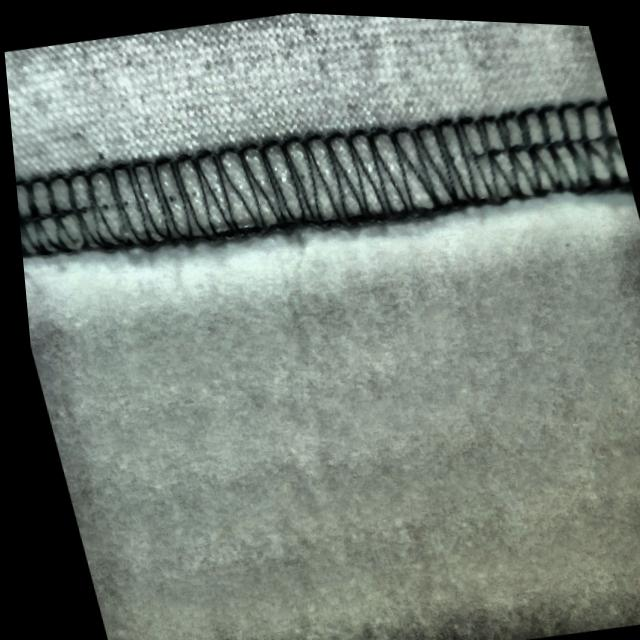Stitch: (383, 79, 630, 221)
